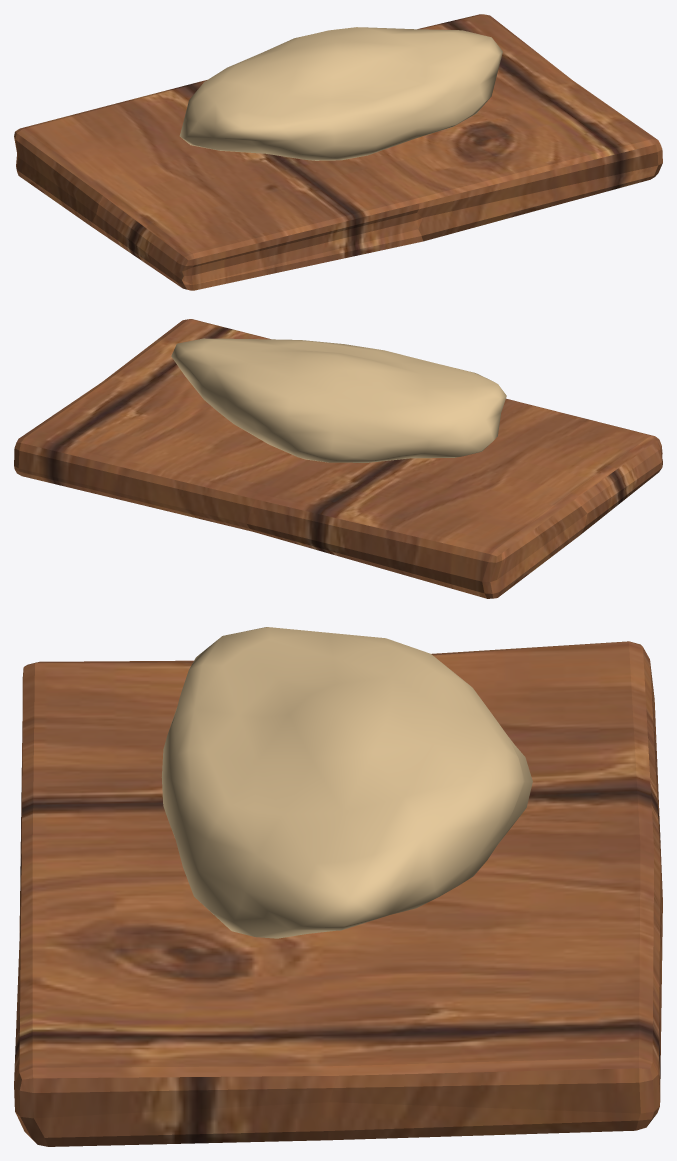
Rendered from dish_roasted_bug.glb.
The picture shows the model from 3 angles, top to bottom: view 1: azimuth 30°, elevation 25°; view 2: azimuth 150°, elevation 25°; view 3: azimuth 270°, elevation 25°; orthographic projection. The views are drawn at different scales.
Parts seen in each view (by area): view 1: model; view 2: model; view 3: model.
Part boxes in pixels (x1,y1,x2,y2): model: (14, 14, 662, 290); model: (14, 319, 662, 598); model: (14, 627, 662, 1146).
Bounding box in the file's own units: 0.3253 × 0.0806 × 0.2053.
2 materials, 1 textured.
